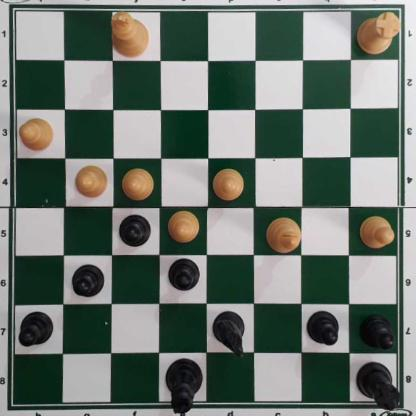black-king: (166, 359, 205, 415)
black-knight: (214, 312, 248, 358)
black-pawn: (360, 316, 399, 354), (18, 311, 54, 349), (306, 311, 340, 349), (169, 259, 203, 295), (72, 266, 105, 301), (119, 215, 151, 250)
black-rook: (356, 361, 403, 413)
white-bishop: (266, 217, 301, 253)
white-king: (113, 13, 152, 60)
white-pawn: (19, 117, 56, 154), (360, 216, 396, 250), (76, 166, 110, 201), (168, 213, 204, 246), (123, 169, 156, 203), (214, 170, 247, 202)
white-rook: (357, 14, 403, 57)
